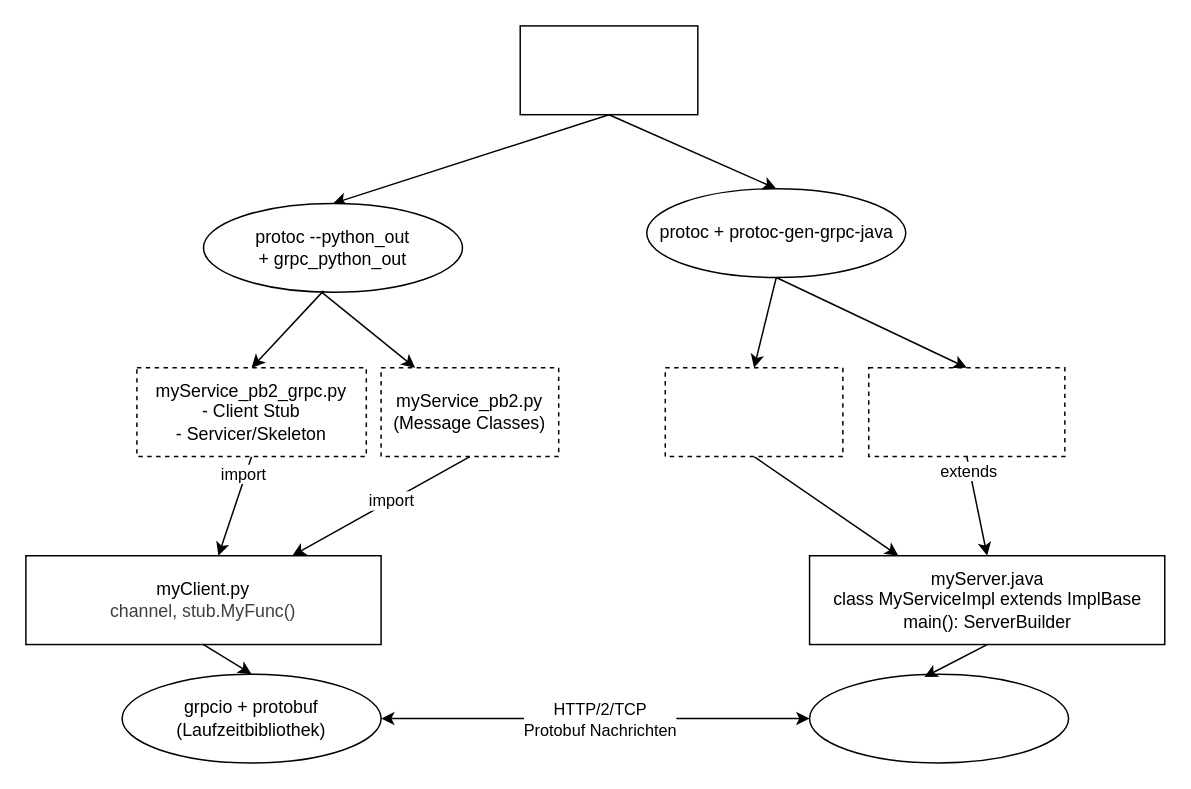
The diagram is 1191 pixels wide and 789 high, and some of its shapes have lost their labels. Each missing label, with the centre of its shape:
"grpc Proto File myService.proto" goes at point 608,69.
"grpc-java + protobuf-java (Laufzeitbibliothek)" goes at point 938,718.
"Message Classes Getter/Builder" goes at point 753,411.
"MyServiceGrpc.java - Stub (nicht genutzt) - ImplBase = Skeleton" goes at point 966,411.
